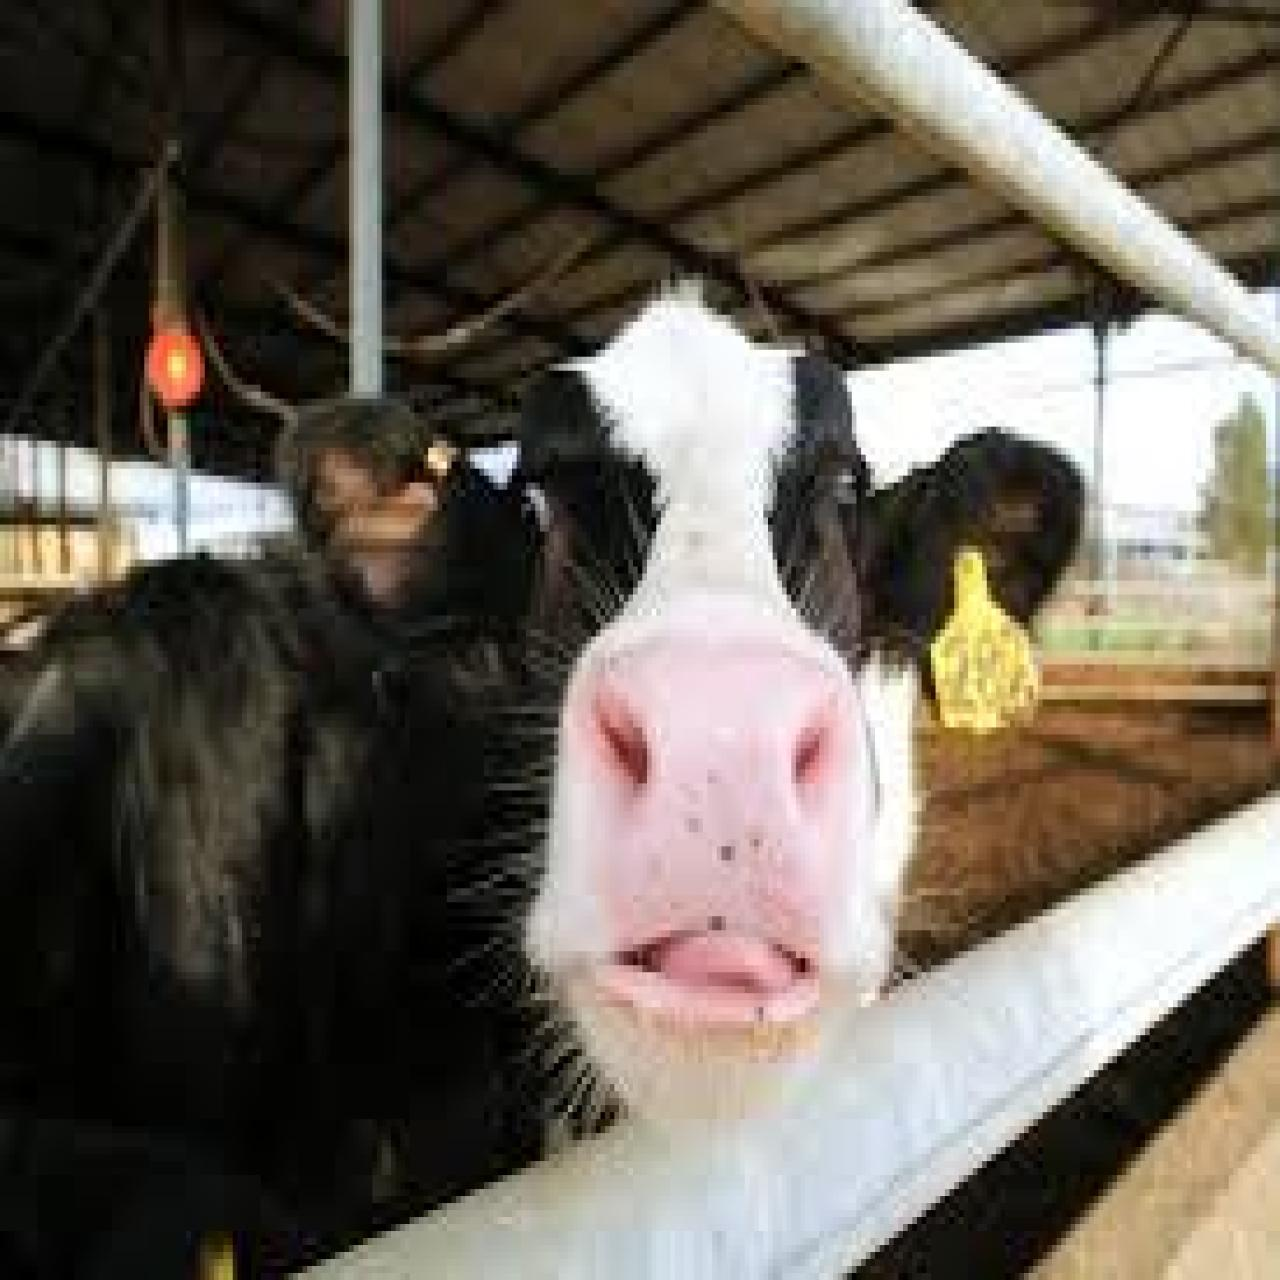cow: (0, 266, 1089, 1280)
